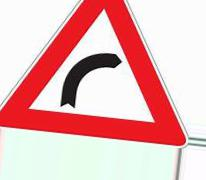right: (1, 1, 193, 147)
